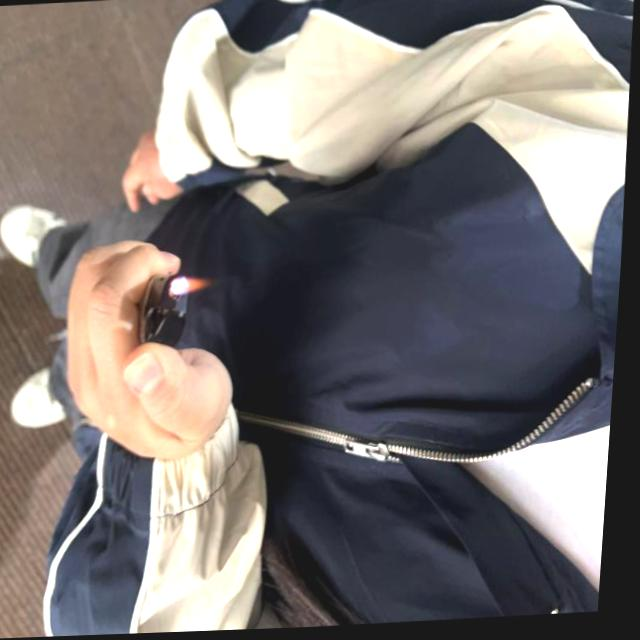helmet: (181, 277, 212, 295)
